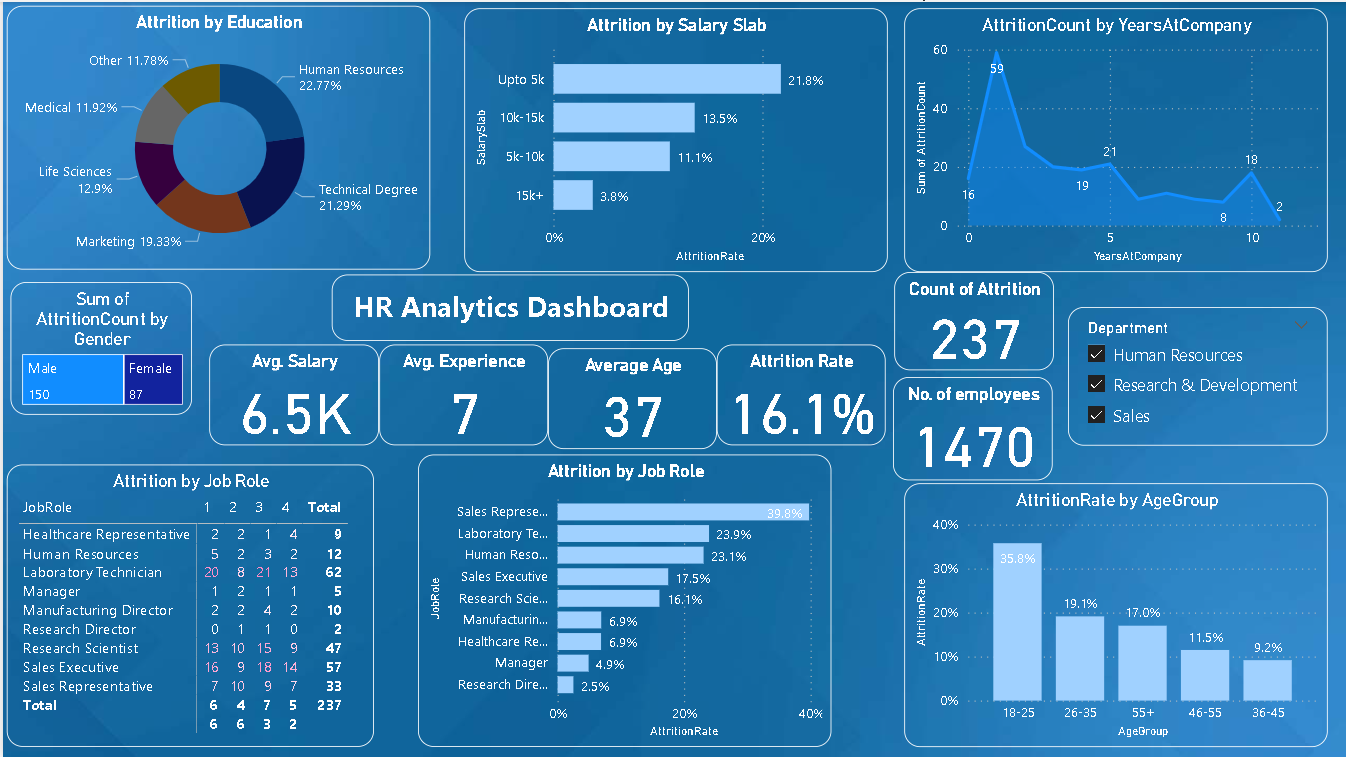

The page's visual inventory and layout, read from the dashboard file:
{"tool":"powerbi","page":{"name":"Page 1","canvas":[1280,720],"ordinal":0},"visuals":[{"type":"card","title":"Count of Attrition","fields":{"Values":["Sum(HR_Analytics.AttritionCount)"]},"box":[848,256.6,152.3,93.3],"z":0},{"type":"card","title":"No. of employees","fields":{"Values":["CountNonNull(HR_Analytics.EmpID)"]},"box":[847.3,357,152.3,98.8],"z":1000},{"type":"card","title":"Attrition Rate","fields":{"Values":["HR_Analytics.AttritionRate"]},"box":[679.2,326.6,160.5,96.1],"z":2000},{"type":"card","title":"Average Age","fields":{"Values":["Avg(HR_Analytics.Age)"]},"box":[518.7,329.3,160.5,96.1],"z":3000},{"type":"card","title":"Avg. Salary","fields":{"Values":["Avg(HR_Analytics.MonthlyIncome)"]},"box":[196.2,326.6,161.9,96.1],"z":4000},{"type":"card","title":"Avg. Experience","fields":{"Values":["Avg(HR_Analytics.YearsAtCompany)"]},"box":[358.1,326.6,160.5,96.1],"z":5000},{"type":"donutChart","title":"Attrition by Education","fields":{"Y":["HR_Analytics.AttritionRate"],"Category":["HR_Analytics.EducationField"]},"box":[4.1,4.1,403.4,251.1],"z":6000},{"type":"columnChart","fields":{"Category":["HR_Analytics.AgeGroup"],"Y":["HR_Analytics.AttritionRate"]},"box":[857.6,458.3,403.4,251.1],"z":7000},{"type":"pivotTable","title":"Attrition by Job Role","fields":{"Rows":["HR_Analytics.JobRole"],"Columns":["HR_Analytics.JobSatisfaction"],"Values":["Sum(HR_Analytics.AttritionCount)"]},"box":[4.1,440.5,349.9,269],"z":8000},{"type":"barChart","title":"Attrition by Salary Slab","fields":{"Category":["HR_Analytics.SalarySlab"],"Y":["HR_Analytics.AttritionRate"]},"box":[439.1,5.5,403.4,251.1],"z":9000},{"type":"barChart","title":"Attrition by Job Role","fields":{"Y":["HR_Analytics.AttritionRate"],"Category":["HR_Analytics.JobRole"]},"box":[395.1,430.8,393.9,278.5],"z":10000},{"type":"areaChart","title":"AttritionCount by YearsAtCompany","fields":{"Category":["HR_Analytics.YearsAtCompany"],"Y":["Sum(HR_Analytics.AttritionCount)"]},"box":[857.6,5.5,403.4,251.1],"z":11000},{"type":"treemap","fields":{"Group":["HR_Analytics.Gender"],"Values":["Sum(HR_Analytics.AttritionCount)"]},"box":[6.9,266.2,172.9,126.2],"z":12000},{"type":"slicer","fields":{"Values":["HR_Analytics.Department"]},"box":[1014.1,290.9,247,131.7],"z":13000},{"type":"textbox","box":[312.9,259.3,340.3,63.1],"z":14000}]}

Visuals, with their boxes in screenshot pixels (x1, y1, x2, y2), scaled from the page's 1280x720 canvas onto the 1346x757 screenshot:
"Count of Attrition" card: {"x1": 892, "y1": 270, "x2": 1052, "y2": 368}
"No. of employees" card: {"x1": 891, "y1": 375, "x2": 1051, "y2": 479}
"Attrition Rate" card: {"x1": 714, "y1": 343, "x2": 883, "y2": 444}
"Average Age" card: {"x1": 545, "y1": 346, "x2": 714, "y2": 447}
"Avg. Salary" card: {"x1": 206, "y1": 343, "x2": 377, "y2": 444}
"Avg. Experience" card: {"x1": 377, "y1": 343, "x2": 545, "y2": 444}
"Attrition by Education" donutChart: {"x1": 4, "y1": 4, "x2": 429, "y2": 268}
columnChart - HR_Analytics.AgeGroup x HR_Analytics.AttritionRate: {"x1": 902, "y1": 482, "x2": 1326, "y2": 746}
"Attrition by Job Role" pivotTable: {"x1": 4, "y1": 463, "x2": 372, "y2": 746}
"Attrition by Salary Slab" barChart: {"x1": 462, "y1": 6, "x2": 886, "y2": 270}
"Attrition by Job Role" barChart: {"x1": 415, "y1": 453, "x2": 830, "y2": 746}
"AttritionCount by YearsAtCompany" areaChart: {"x1": 902, "y1": 6, "x2": 1326, "y2": 270}
treemap - HR_Analytics.Gender x Sum(HR_Analytics.AttritionCount): {"x1": 7, "y1": 280, "x2": 189, "y2": 413}
slicer - HR_Analytics.Department: {"x1": 1066, "y1": 306, "x2": 1326, "y2": 444}
textbox: {"x1": 329, "y1": 273, "x2": 687, "y2": 339}
